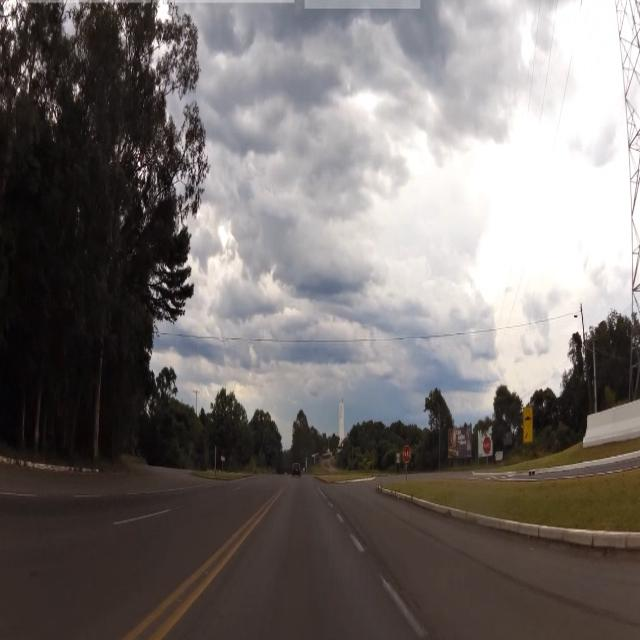A-18: (524, 411, 531, 427)
R-1: (482, 437, 492, 456), (403, 445, 411, 465)
